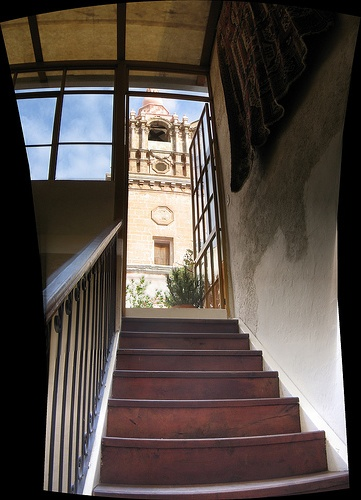stairs_up: (96, 305, 351, 500)
